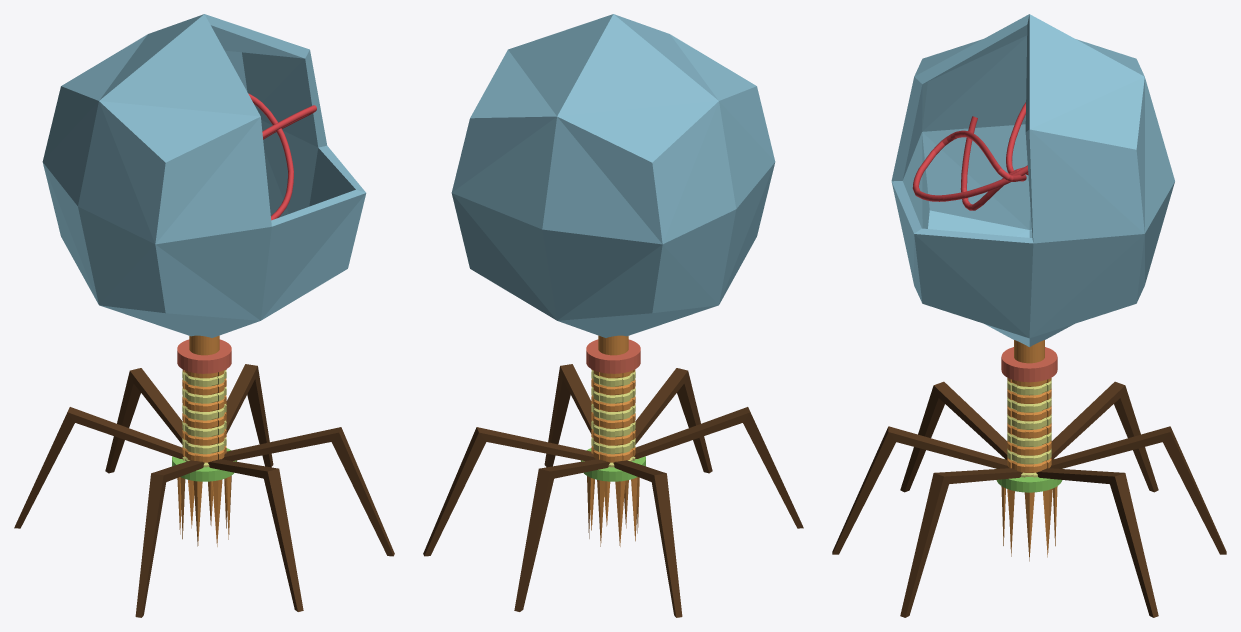
The model's file is virusmod.fbx.
The picture shows the model from 3 angles, left to right: view 1: azimuth 30°, elevation 25°; view 2: azimuth 150°, elevation 25°; view 3: azimuth 270°, elevation 25°; orthographic projection. The views are drawn at different scales.
Parts seen in each view (by area): view 1: KAPSID; view 2: KAPSID; view 3: KAPSID.
Boxes of the visible parts, bbox=[...] form: KAPSID: bbox=[14, 14, 394, 617]; KAPSID: bbox=[423, 14, 803, 617]; KAPSID: bbox=[832, 14, 1226, 617].
Bounding box in the file's own units: 266 × 516 × 342.
